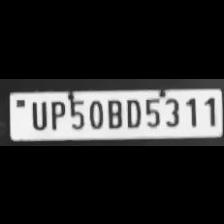0: (86, 96, 104, 128)
1: (180, 95, 200, 127), (200, 95, 218, 127)
3: (162, 95, 182, 127)
5: (66, 96, 86, 130), (142, 95, 162, 127)
B: (104, 96, 122, 128)
D: (123, 94, 141, 128)
P: (46, 96, 66, 130)
U: (28, 98, 48, 130)
